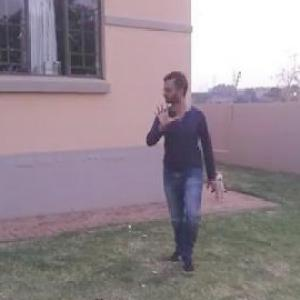follow_hand: (150, 97, 179, 131)
